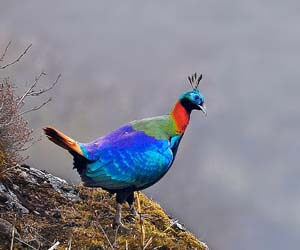bird: (42, 64, 213, 236)
